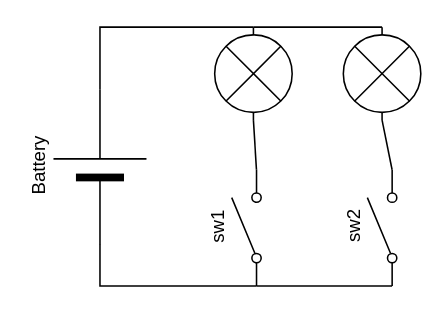
Some shapes in this 448 by 315 pixel diagram are drawn without their labels. The shapes that lost their labels are listed below. From the top down, each one's centre as x and y in pixels, then its label:
At pixel 252 73: "b1".
At pixel 381 73: "b2".
